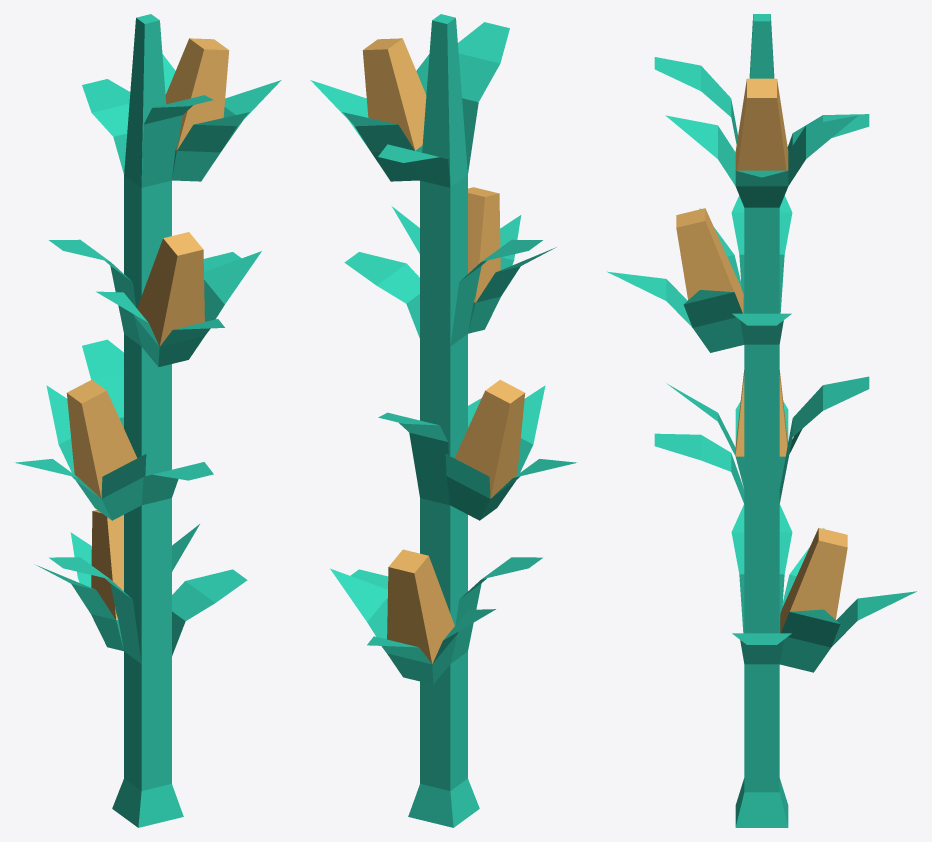
Rendered from crops_cornStageD.dae.
3 renders of one model, left to right at view 1: azimuth 30°, elevation 25°; view 2: azimuth 150°, elevation 25°; view 3: azimuth 270°, elevation 25°, orthographic.
Visible parts, largest first — view 1: crops_cornStageD, corn (×4); view 2: crops_cornStageD, corn (×4); view 3: crops_cornStageD, corn (×4).
Part boxes in pixels (x1,y1,x2,y2): crops_cornStageD: (49,14,247,827); corn (×4): (15,38,281,651); crops_cornStageD: (344,14,542,827); corn (×4): (310,38,576,684); crops_cornStageD: (654,14,869,827); corn (×4): (607,78,916,672).
Size of the model in its own units: 0.4416 by 1.25 by 0.4416.
